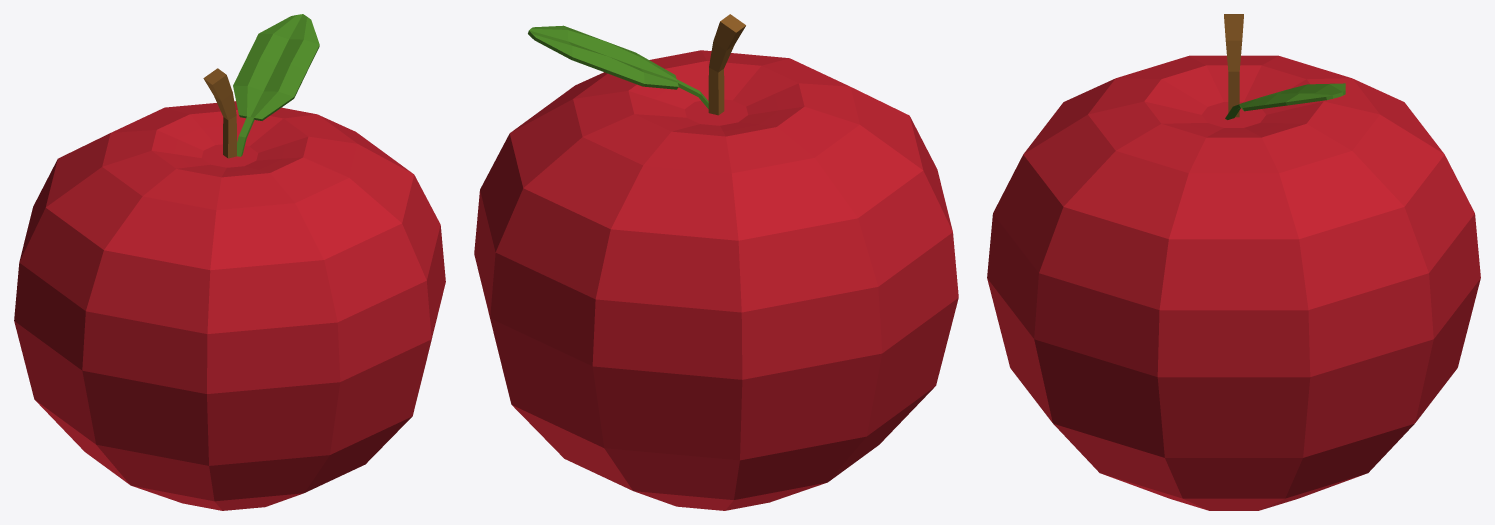
The model's file is Apple.fbx.
3 views of the same model, side by side, from view 1: azimuth 30°, elevation 25°; view 2: azimuth 150°, elevation 25°; view 3: azimuth 270°, elevation 25° (orthographic). The views are drawn at different scales.
Visible parts, largest first — view 1: Apple; view 2: Apple; view 3: Apple.
Boxes of the visible parts, bbox=[...] form: Apple: bbox=[14, 14, 445, 510]; Apple: bbox=[474, 14, 958, 510]; Apple: bbox=[987, 14, 1480, 510].
Size of the model in its own units: 61.77 by 68.6 by 64.95.
